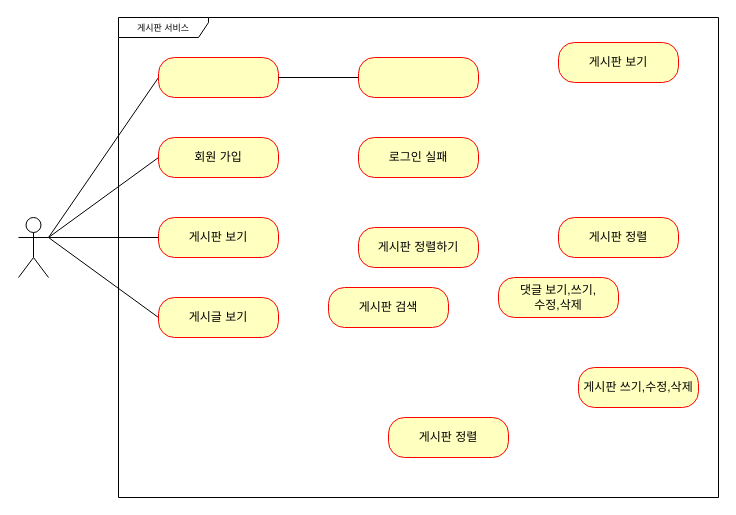
Image size: 736x515. Some labels were removed from this diagram. Here are the shapes that lost their labels. From the top down, the centre of each, then its label:
At (x=218, y=77): "회원 로그인".
At (x=418, y=77): "인증".
At (x=33, y=247): "사용자".
